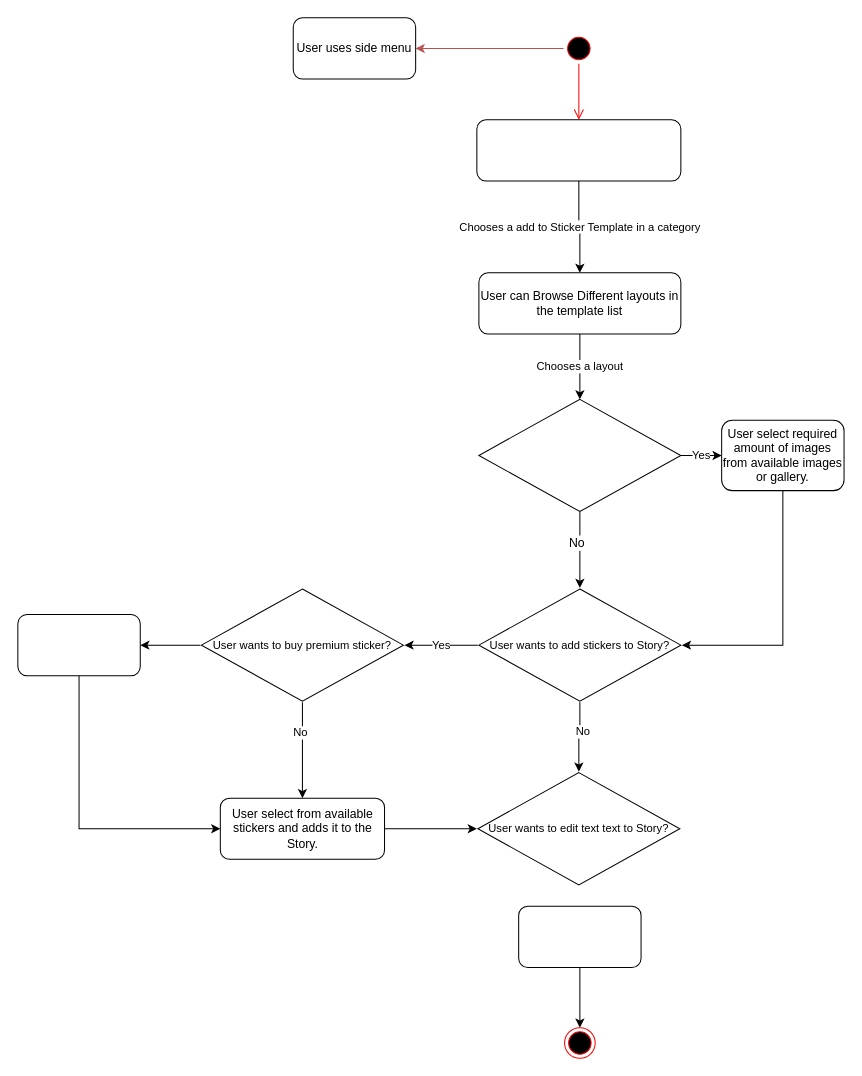
Image size: 862x1076. Some labels were removed from this diagram. Each missing label, with the box of its shape:
User Buy new Stickers: (17, 614, 140, 676)
User can Browse Categories: (476, 119, 681, 181)
User can share the Story.: (518, 905, 641, 967)
User Wants to change the background Image?: (478, 398, 681, 512)
